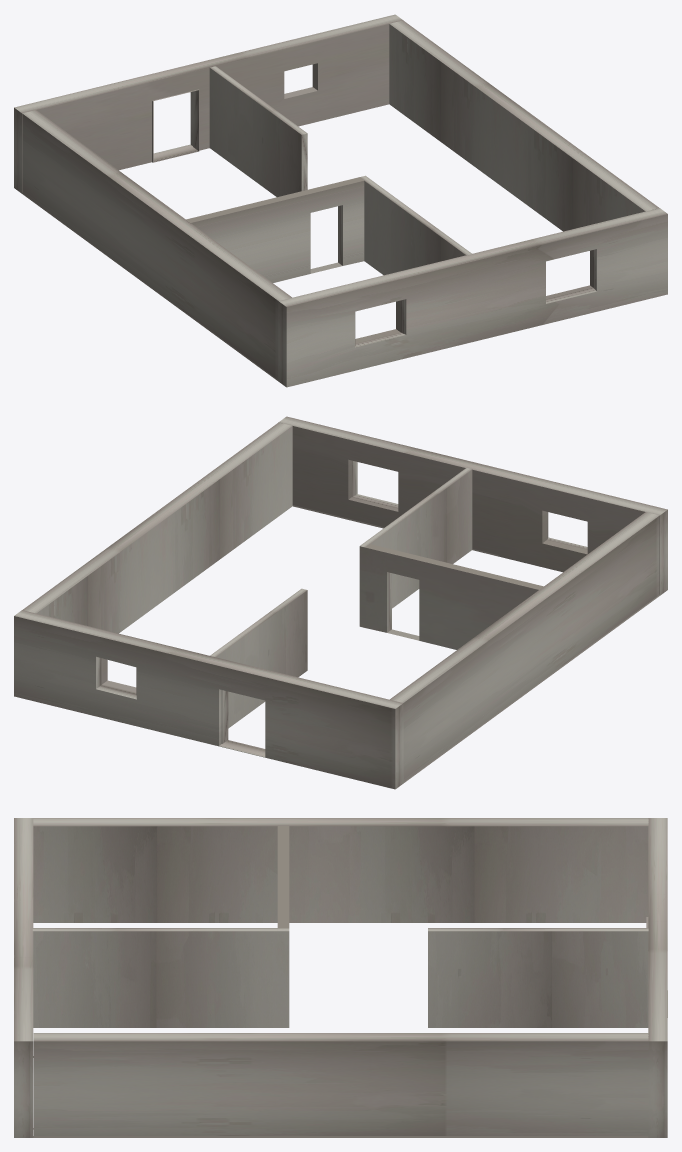
The model's file is evyapi.fbx.
3 renders of one model, top to bottom at view 1: azimuth 30°, elevation 25°; view 2: azimuth 150°, elevation 25°; view 3: azimuth 270°, elevation 25°, orthographic. The views are drawn at different scales.
Parts seen in each view (by area): view 1: ev; view 2: ev; view 3: ev.
Boxes of the visible parts, x1,y1,x2,y2 form: ev: [14, 14, 667, 387]; ev: [14, 416, 667, 789]; ev: [14, 818, 667, 1137].
Size of the model in its own units: 3455 by 698 by 4277.
1 material, 1 textured.
